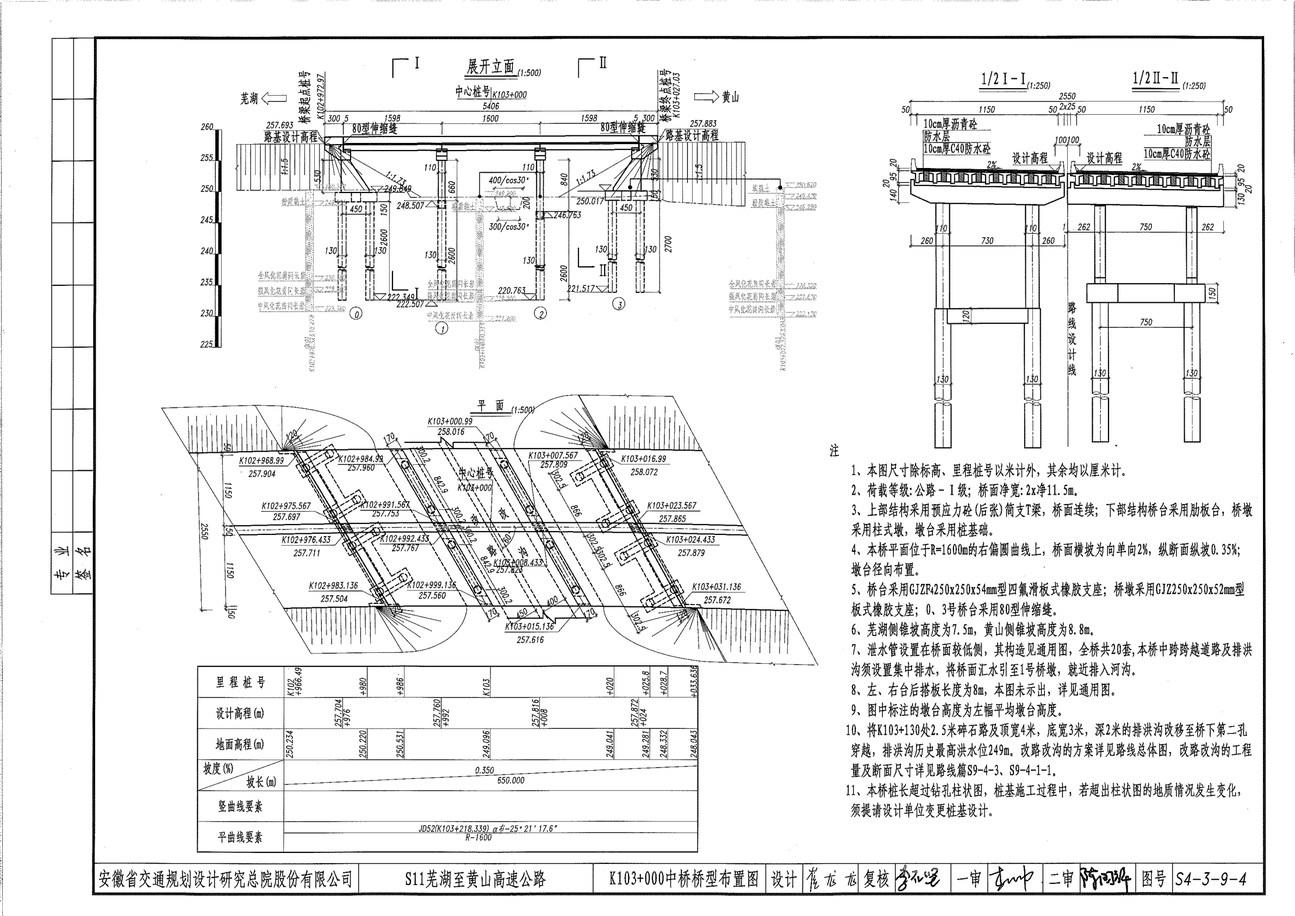A: (174, 46, 792, 345)
